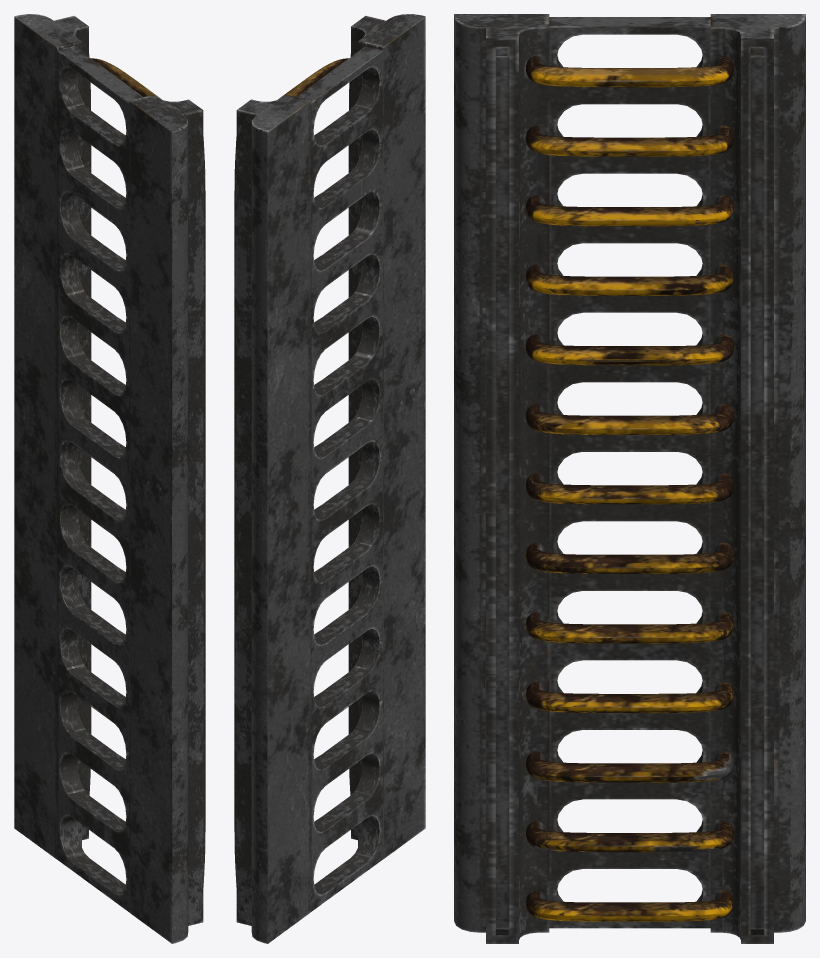
The picture shows the model from 3 angles, left to right: view 1: azimuth 30°, elevation 25°; view 2: azimuth 150°, elevation 25°; view 3: azimuth 270°, elevation 25°; orthographic projection. The views are drawn at different scales.
Parts seen in each view (by area): view 1: ladder.001, ladder.002, ladder; view 2: ladder.001, ladder.002, ladder; view 3: ladder.001, ladder, ladder.002.
Part boxes in pixels (<box>): ladder.001: <box>14,14,205,943</box>; ladder.002: <box>57,46,142,911</box>; ladder: <box>82,58,160,826</box>; ladder.001: <box>234,14,425,943</box>; ladder.002: <box>297,46,382,911</box>; ladder: <box>279,58,357,826</box>; ladder.001: <box>454,14,805,943</box>; ladder: <box>526,56,733,921</box>; ladder.002: <box>549,17,710,928</box>.
Size of the model in its own units: 150 by 2066 by 727.
1 material, 1 textured.
